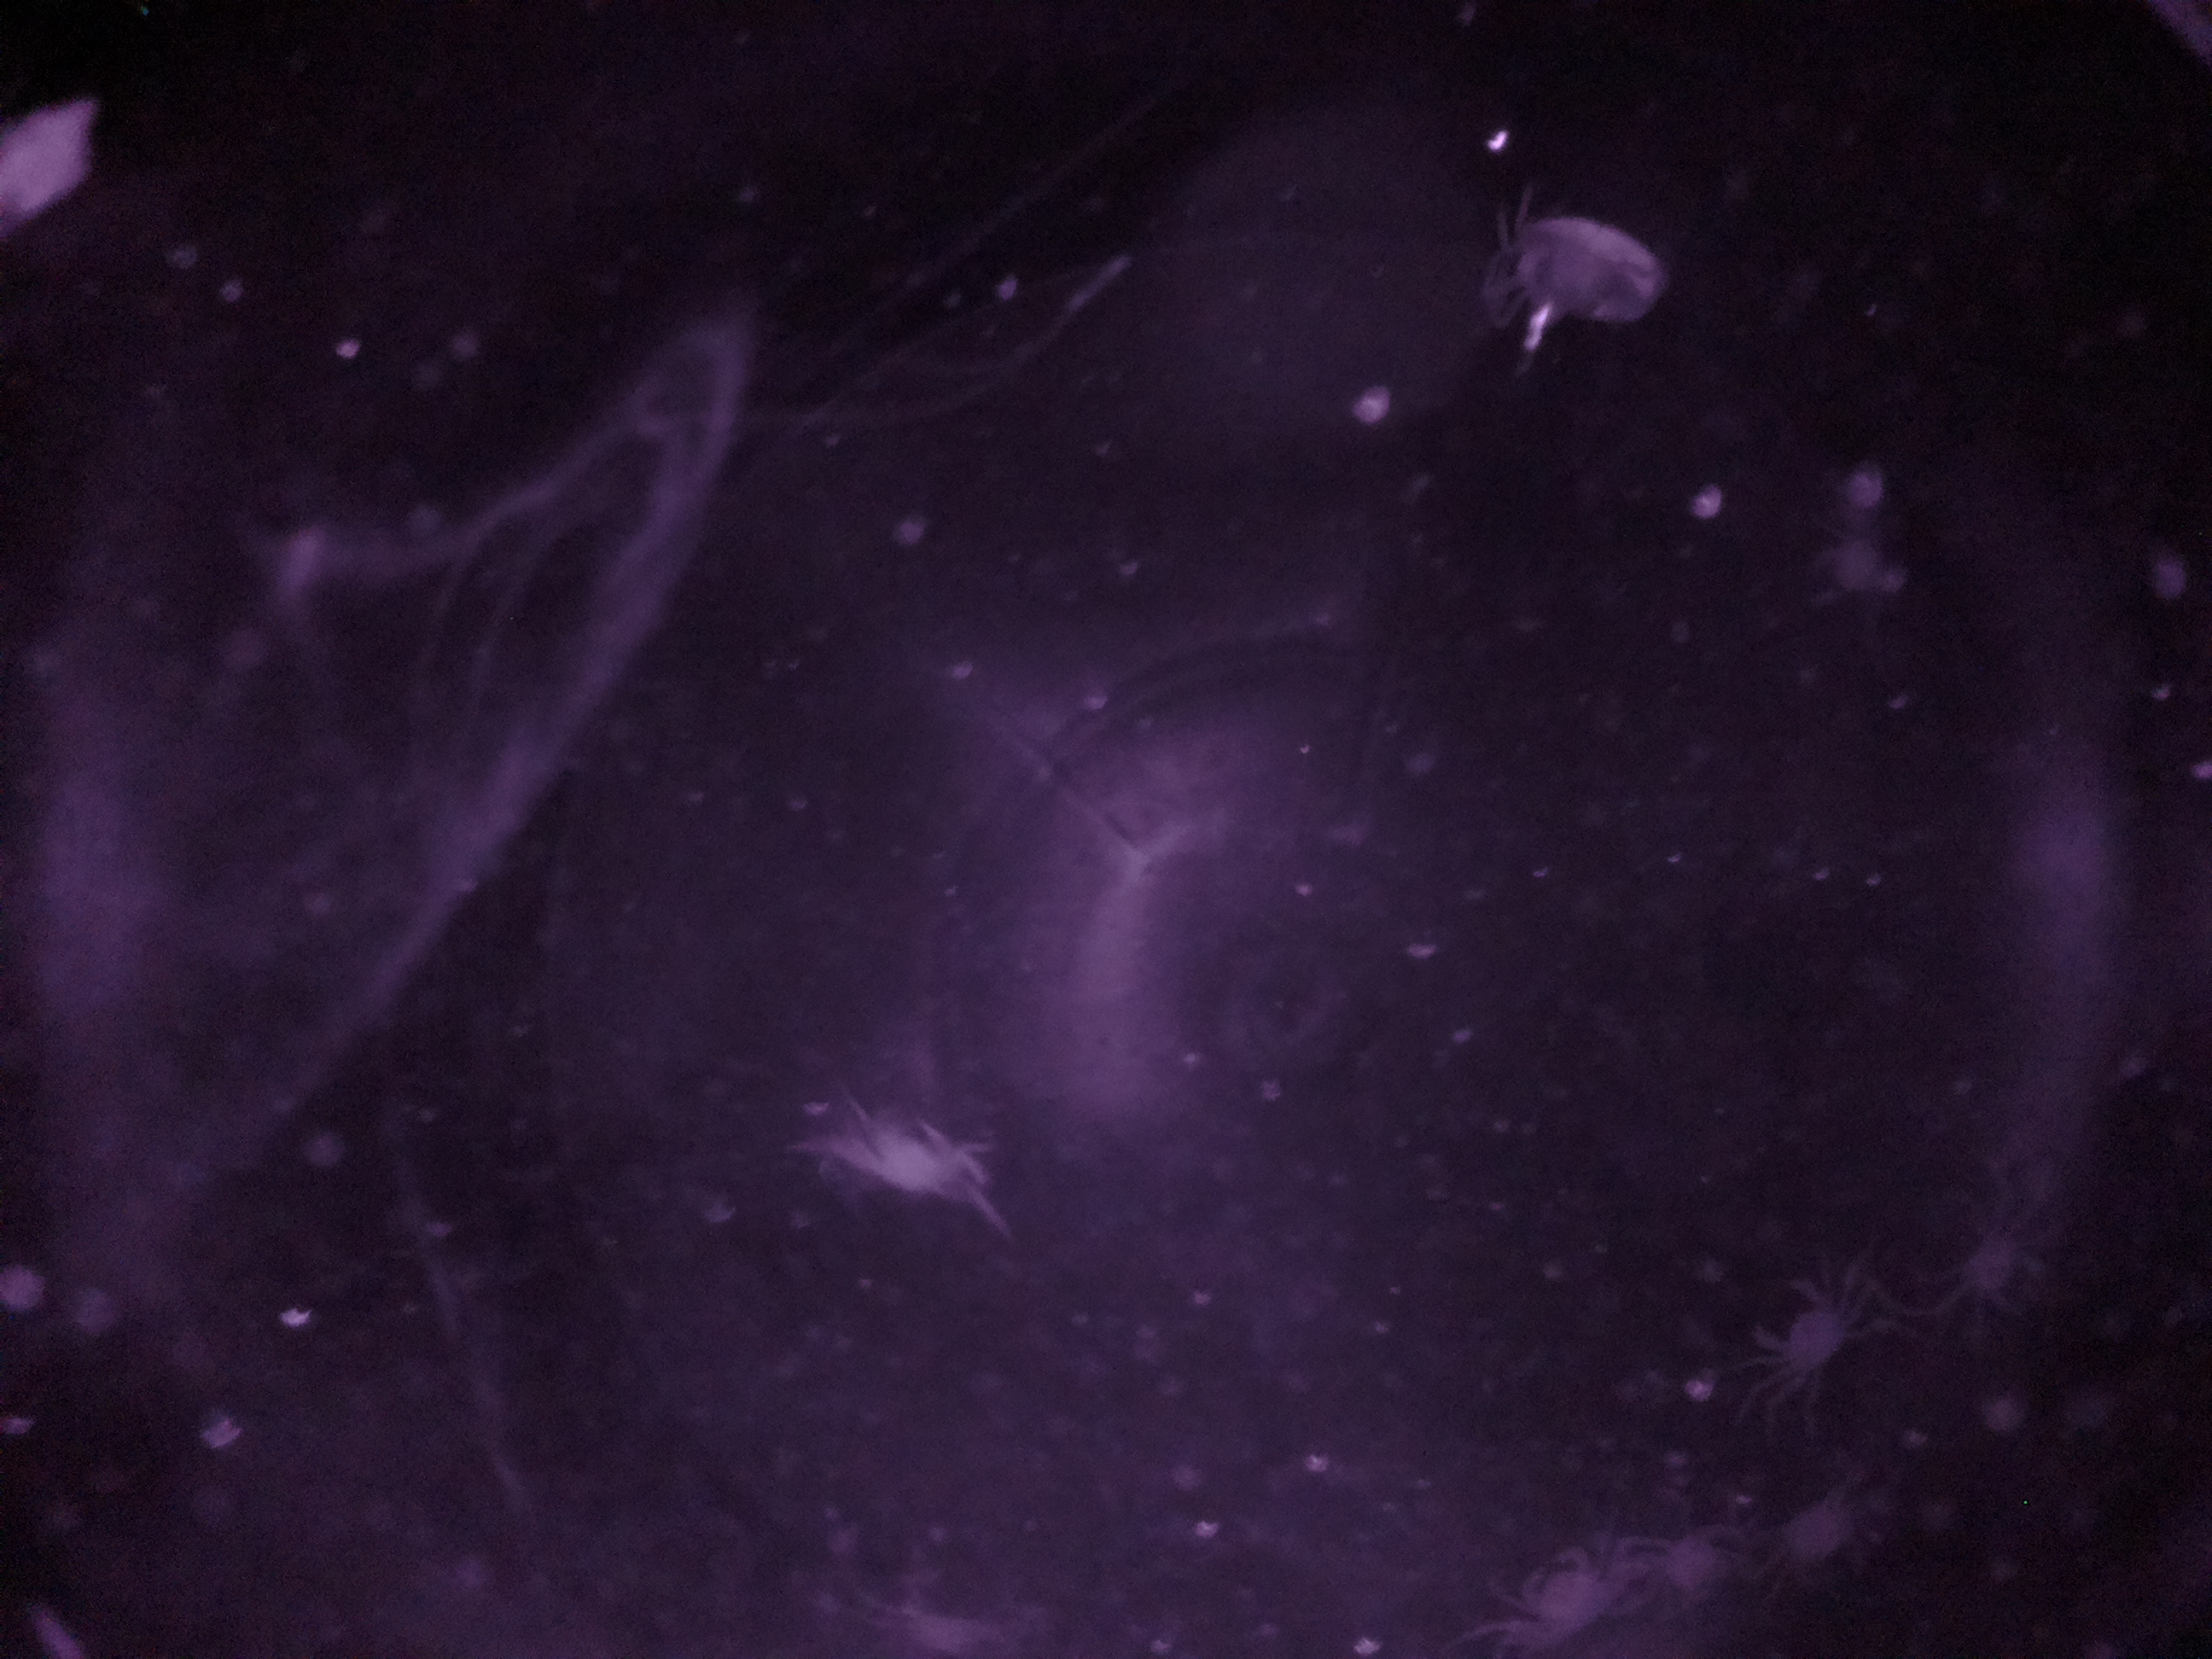Crab: (1737, 1256, 1881, 1419), (1491, 1521, 1622, 1654)
